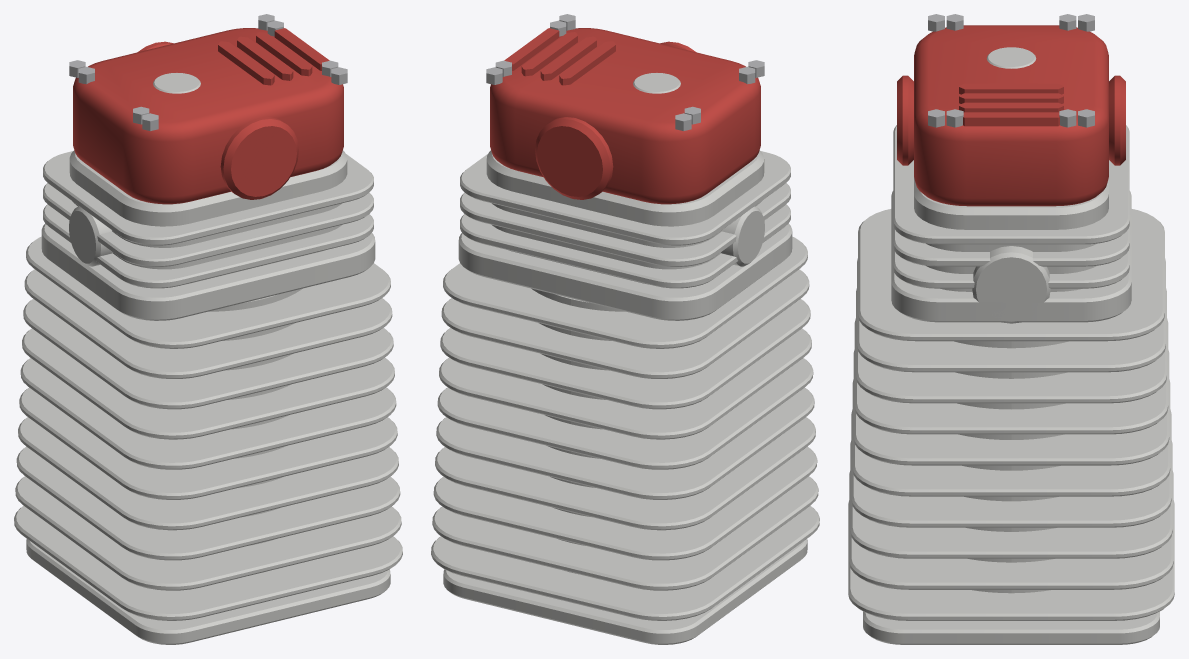
The model's file is hot_cam.glb.
3 views of the same model, side by side, from view 1: azimuth 30°, elevation 25°; view 2: azimuth 150°, elevation 25°; view 3: azimuth 270°, elevation 25° (orthographic). The views are drawn at different scales.
Visible parts, largest first — view 1: hot_cam; view 2: hot_cam; view 3: hot_cam.
Boxes of the visible parts, <box> form: hot_cam: <box>14,14,402,644</box>; hot_cam: <box>431,14,819,644</box>; hot_cam: <box>848,14,1174,644</box>.
Bounding box in the file's own units: 0.174 × 0.3043 × 0.174.
